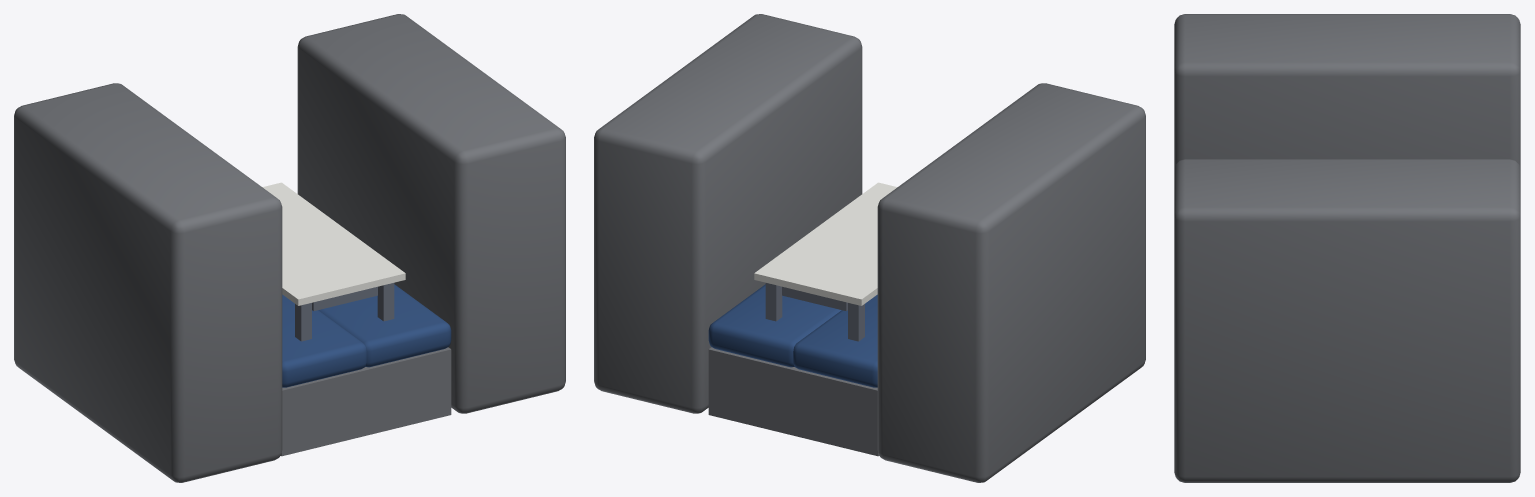
Rendered from office.pod.meeting.glb.
3 renders of one model, left to right at view 1: azimuth 30°, elevation 25°; view 2: azimuth 150°, elevation 25°; view 3: azimuth 270°, elevation 25°, orthographic. The views are drawn at different scales.
Visible parts, largest first — view 1: main__fabric_grey, main__fabric_blue, main__laminate_white, main__steel_painted; view 2: main__fabric_grey, main__fabric_blue, main__laminate_white, main__steel_painted; view 3: main__fabric_grey.
Boxes of the visible parts, x1,y1,x2,y2 form: main__fabric_grey: [14, 14, 565, 482]; main__fabric_blue: [282, 284, 451, 387]; main__laminate_white: [262, 182, 405, 305]; main__steel_painted: [295, 283, 394, 341]; main__fabric_grey: [594, 14, 1145, 482]; main__fabric_blue: [708, 284, 877, 387]; main__laminate_white: [754, 182, 897, 305]; main__steel_painted: [765, 283, 864, 341]; main__fabric_grey: [1174, 14, 1520, 482].
Size of the model in its own units: 2.2 by 1.4 by 1.6.
